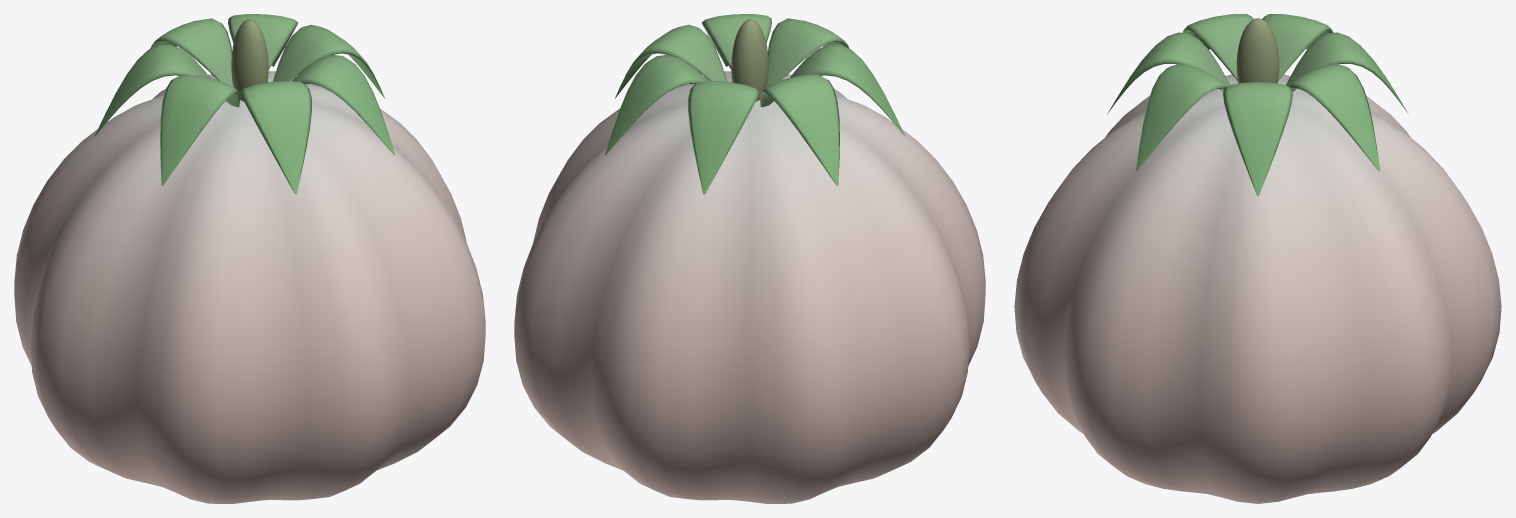
Rendered from orchard-fruit.glb.
3 renders of one model, left to right at view 1: azimuth 30°, elevation 25°; view 2: azimuth 150°, elevation 25°; view 3: azimuth 270°, elevation 25°, orthographic.
Parts seen in each view (by area): view 1: orchard-fruit; view 2: orchard-fruit; view 3: orchard-fruit.
Boxes of the visible parts, x1=… form: orchard-fruit: x1=14, y1=14, x2=485, y2=503; orchard-fruit: x1=514, y1=14, x2=985, y2=503; orchard-fruit: x1=1014, y1=14, x2=1501, y2=503.
Bounding box in the file's own units: 1.71 × 1.73 × 1.71.
